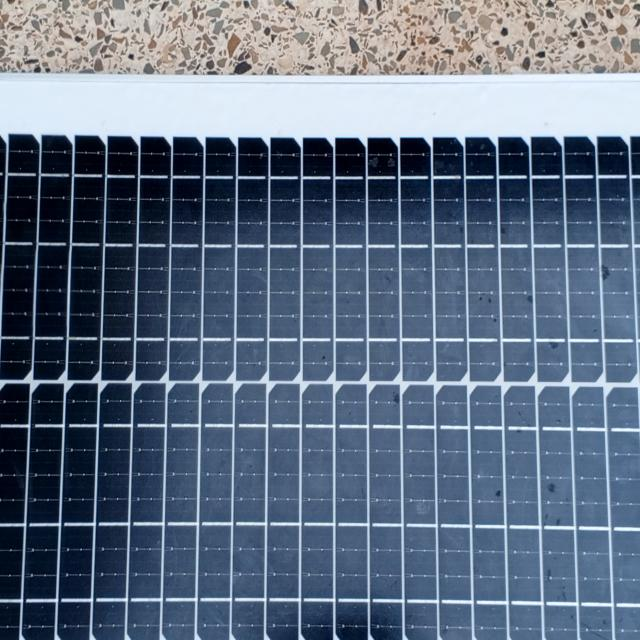Clean: (1, 90, 640, 639)
